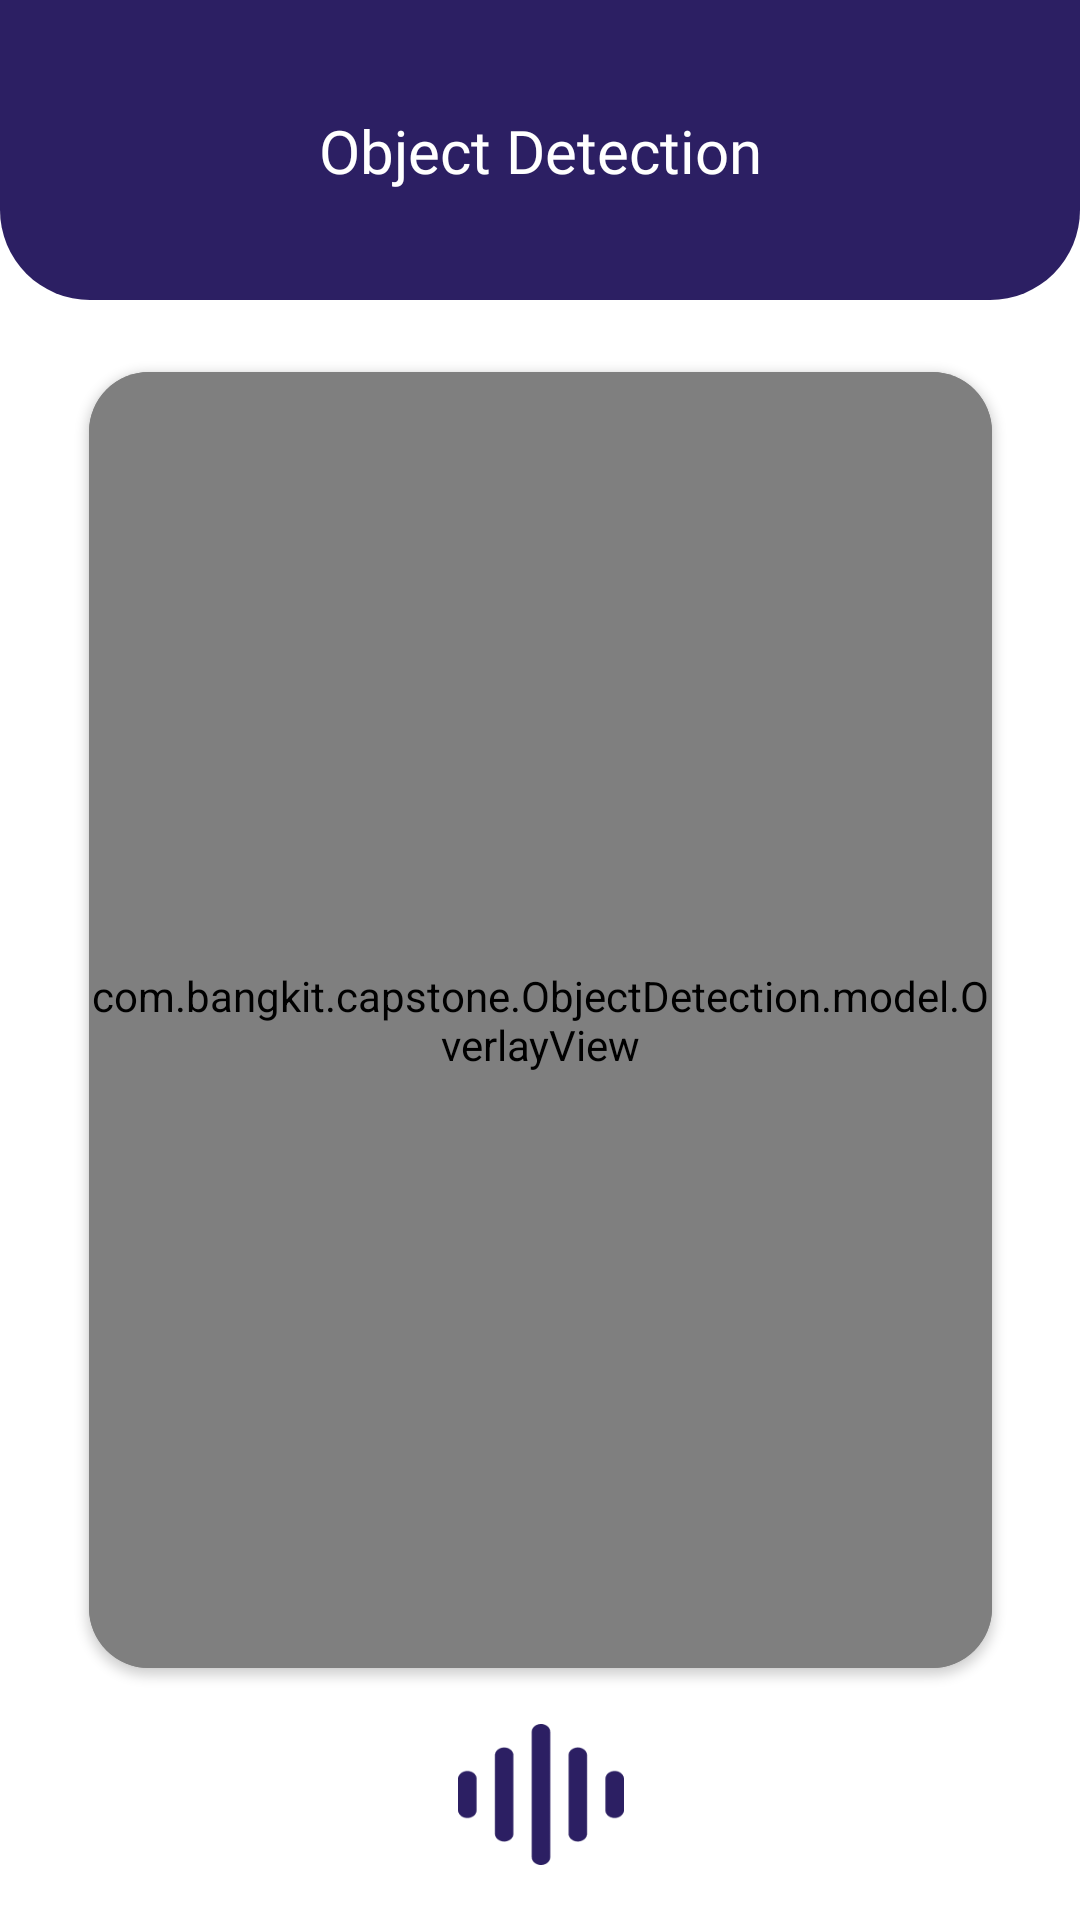

Locate icon controls on the screen. Image size 1080*1920, boxes as [x1,y1,x2,y2].
audio: [458,1724,624,1865]
